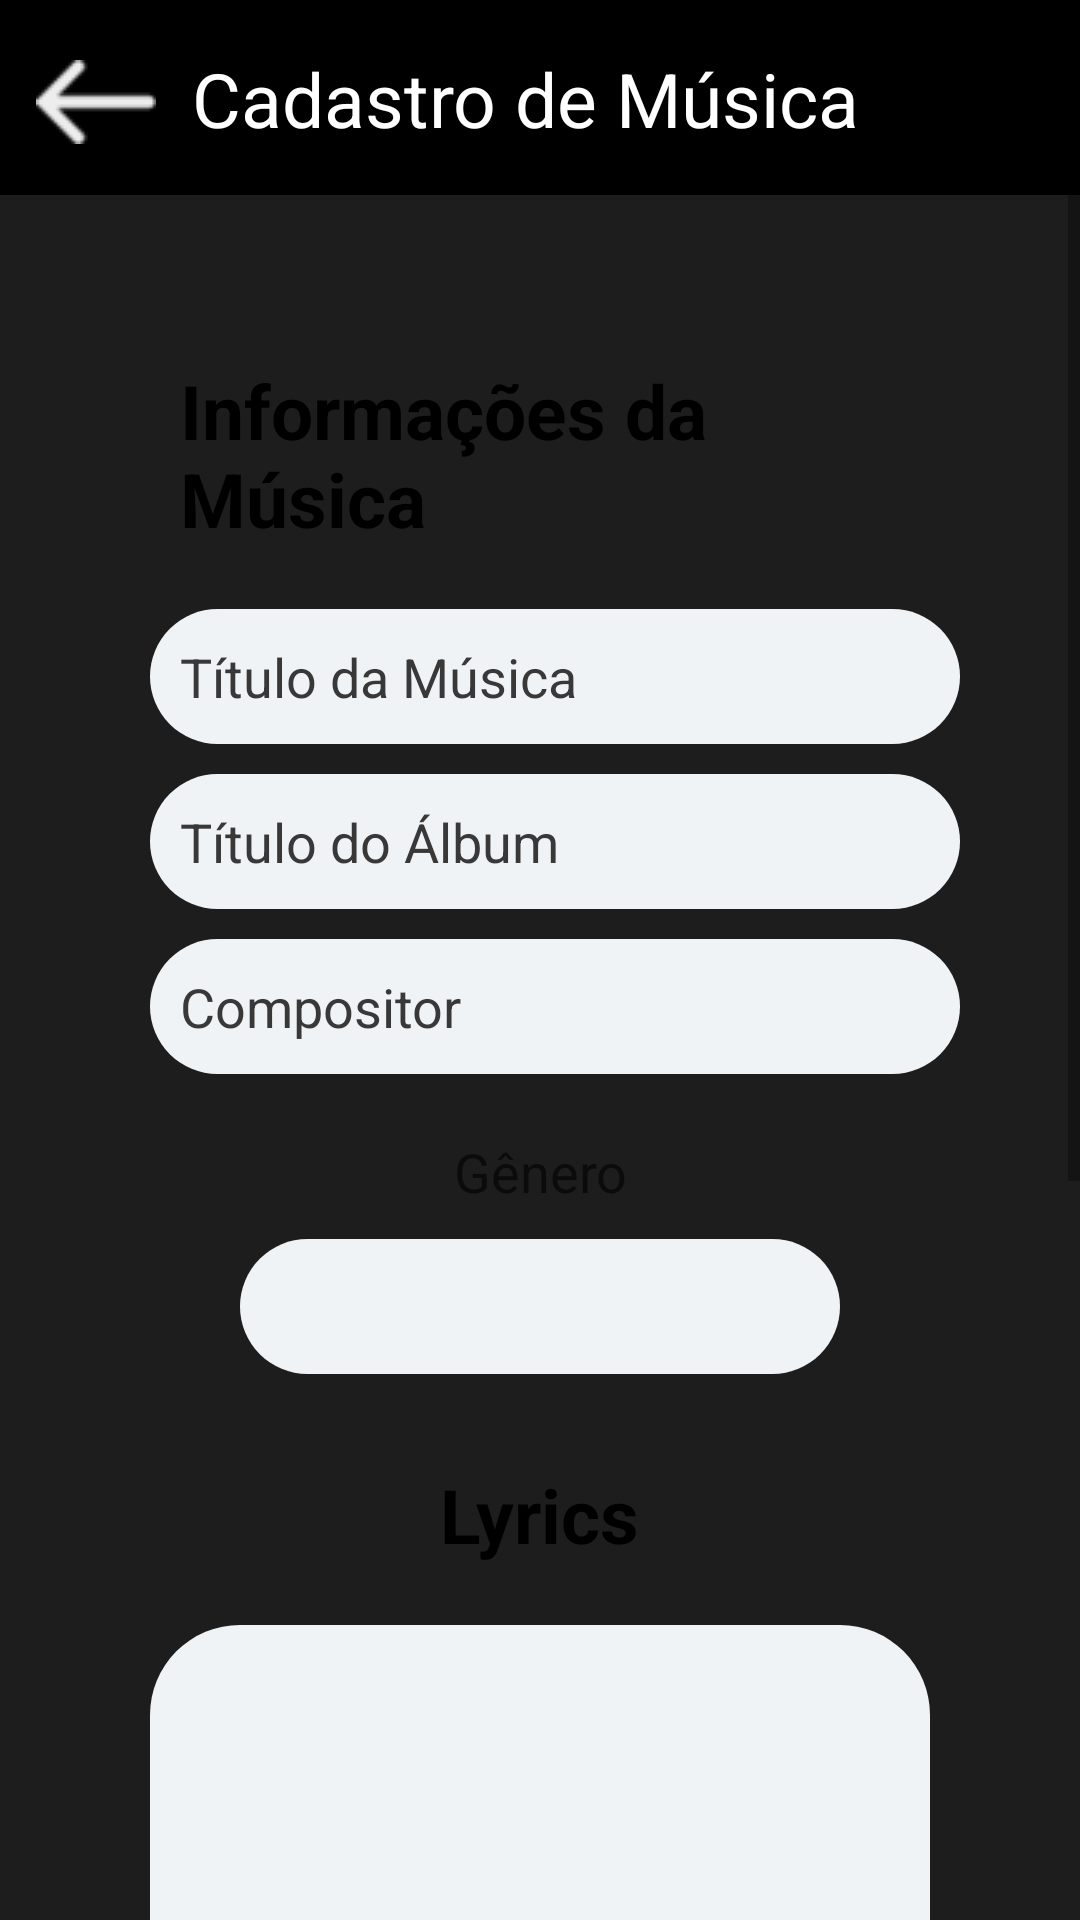

Named icons in this screenshot (1080w x 1920h) and their centers, (x=x, y=y):
voltar: (x=96, y=102)
